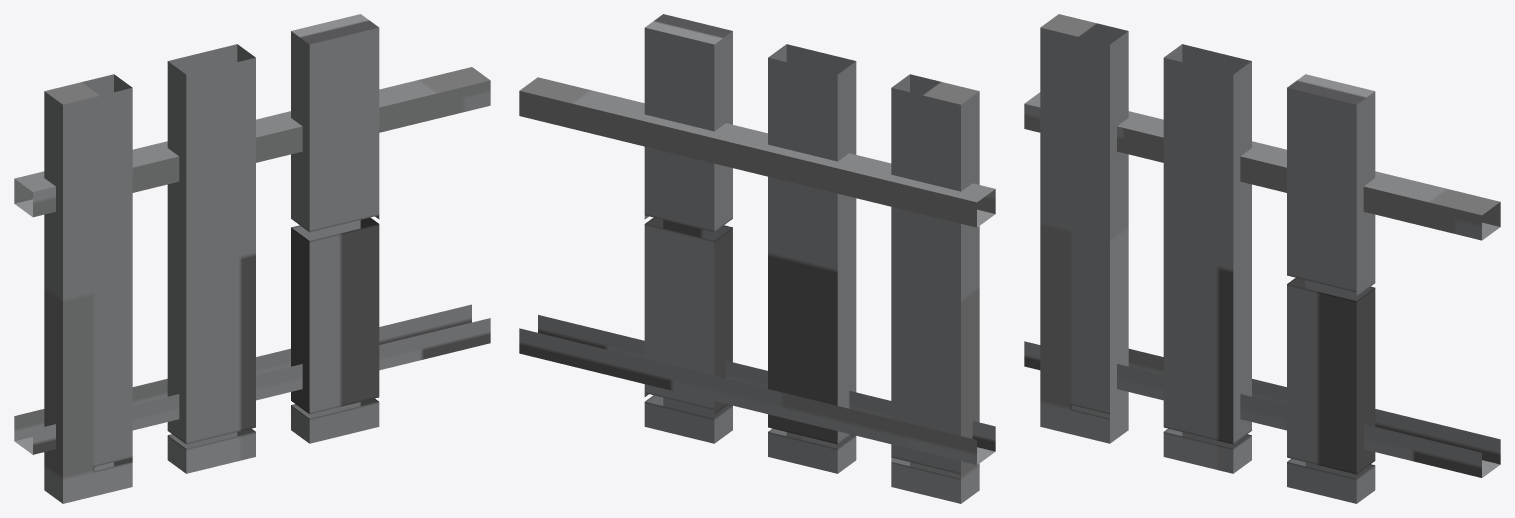
3 views of the same model, side by side, from view 1: azimuth 30°, elevation 25°; view 2: azimuth 150°, elevation 25°; view 3: azimuth 330°, elevation 25° (orthographic).
Size of the model in its own units: 0.922 by 0.7684 by 0.0893.
